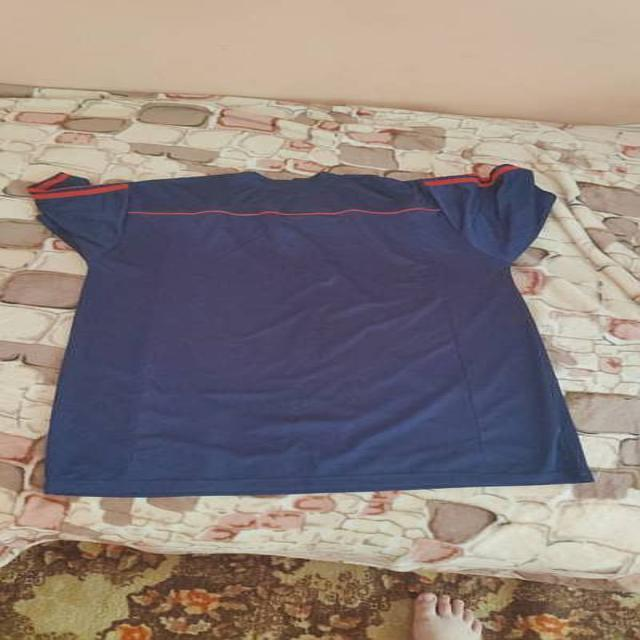T_SHIRT: (14, 148, 640, 511)
